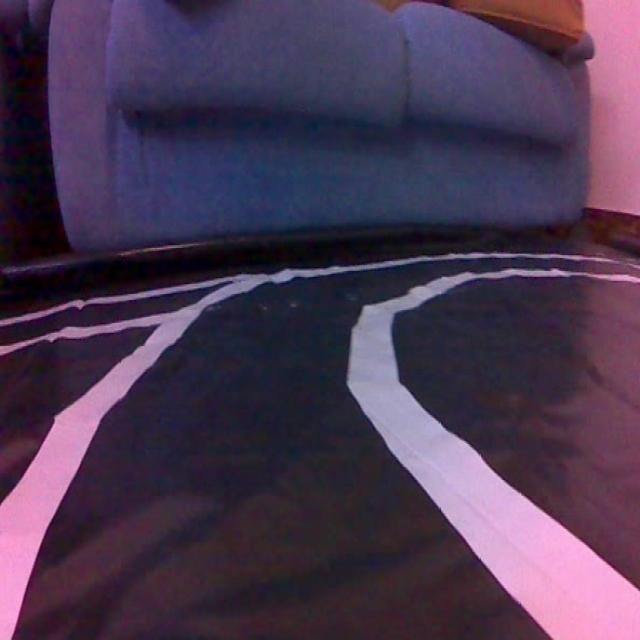LineaCarril: (0, 254, 640, 640)
